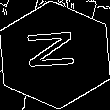N_E: (25, 33, 85, 77)
